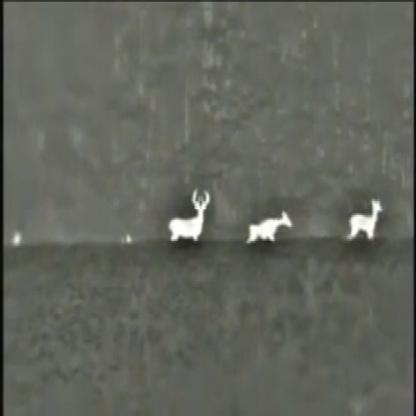rehkitze: (166, 190, 211, 244), (245, 206, 292, 243), (345, 199, 384, 241)
